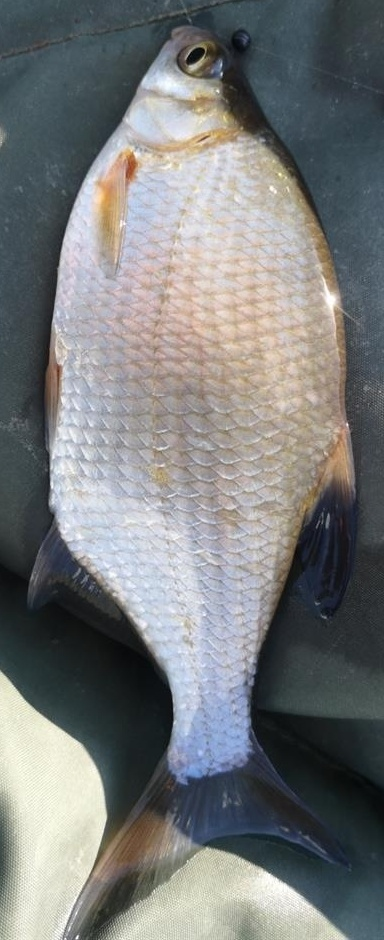Blicca bjoerkna: (20, 20, 364, 936)
